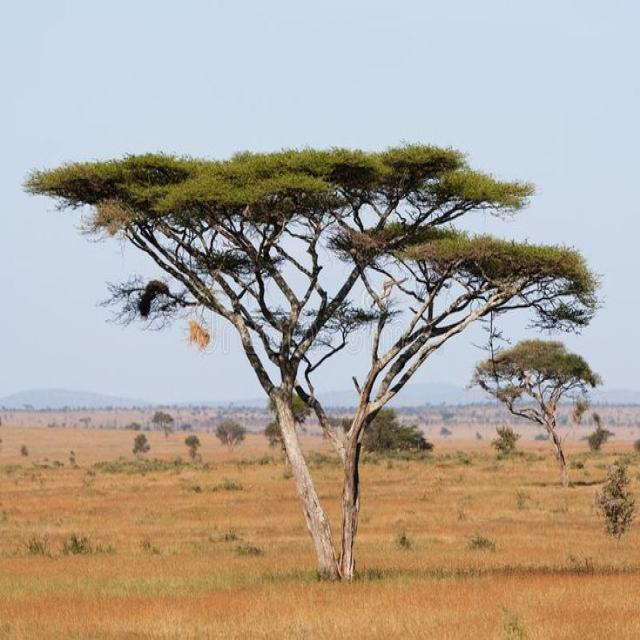Acacia: (50, 140, 579, 588)
